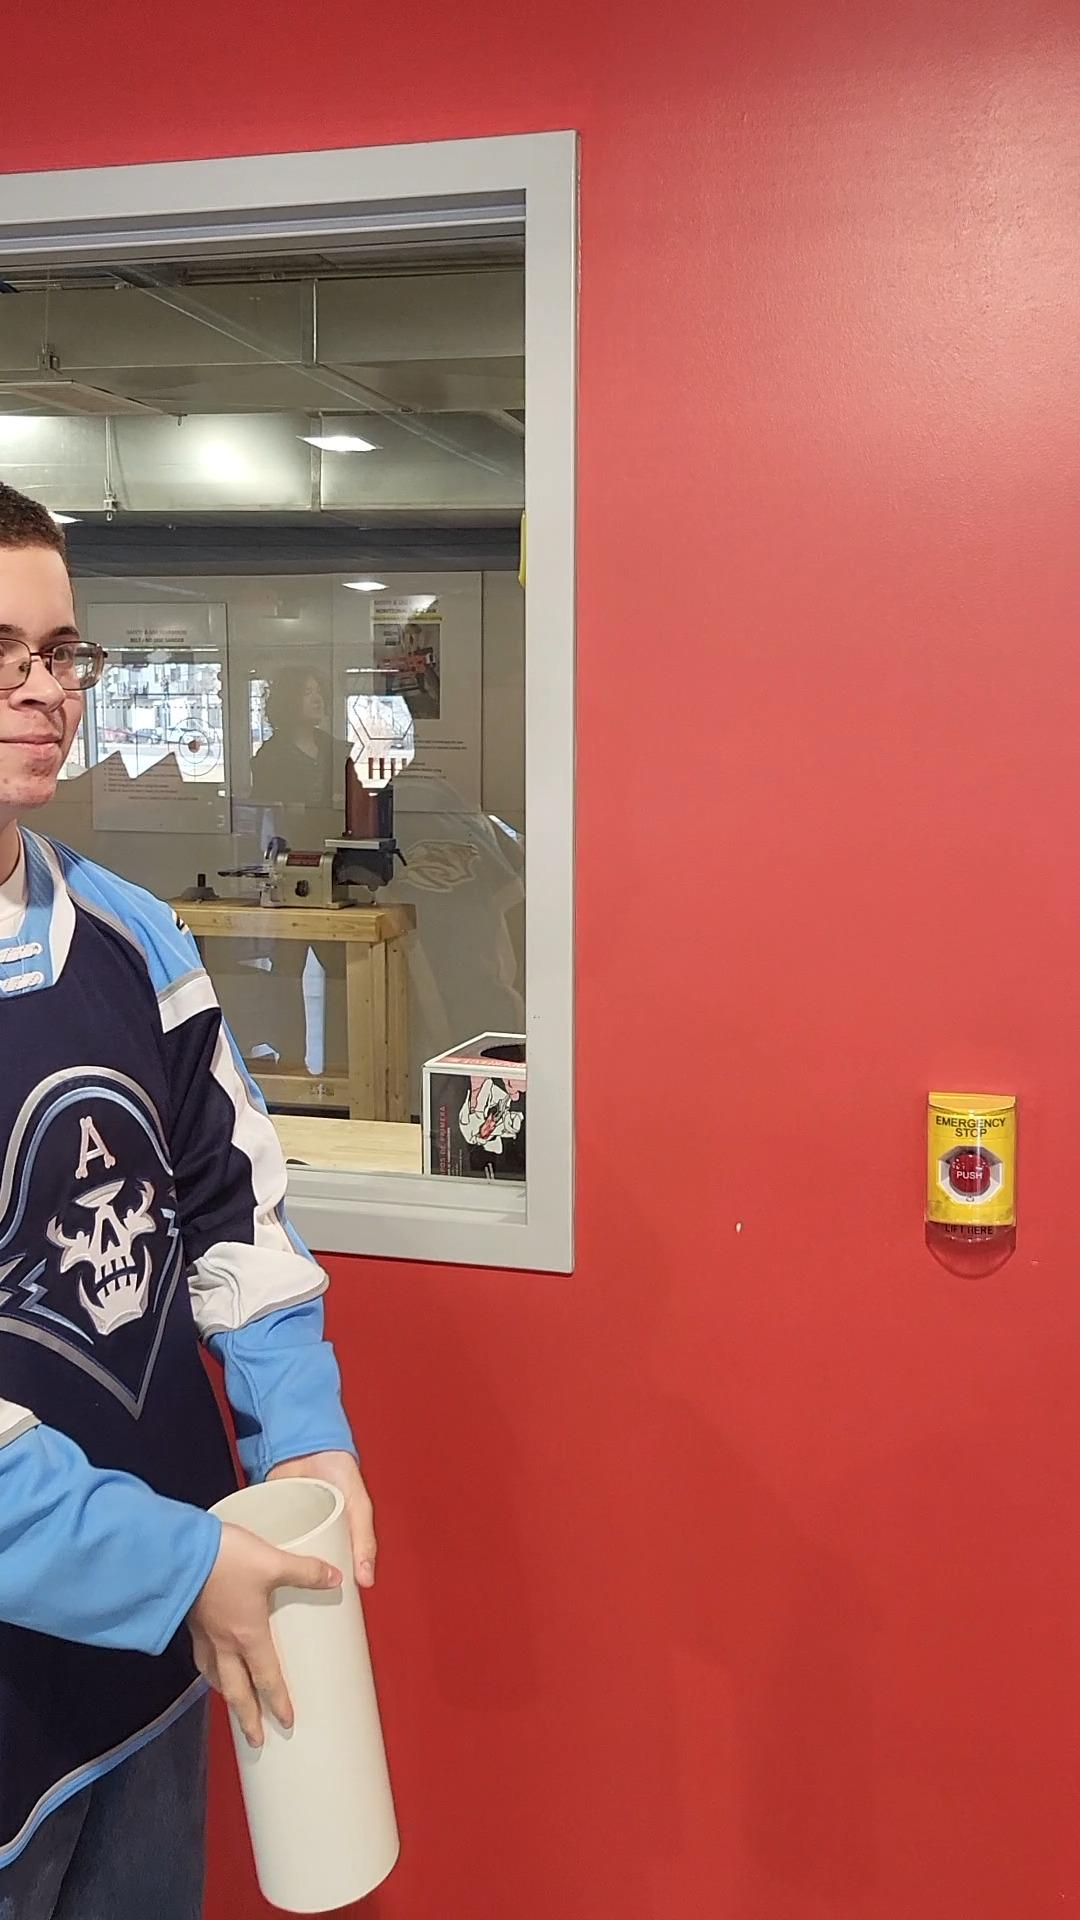coral: (170, 1453, 413, 1920)
